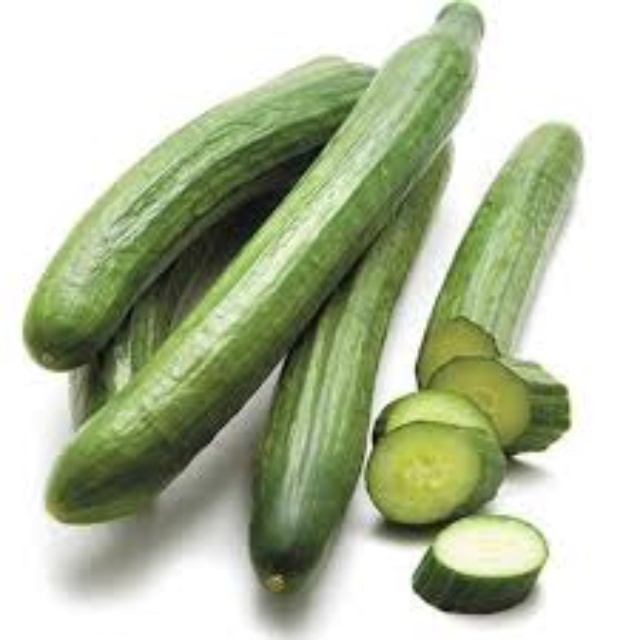dua_leo: (43, 1, 489, 528), (17, 51, 388, 371)
